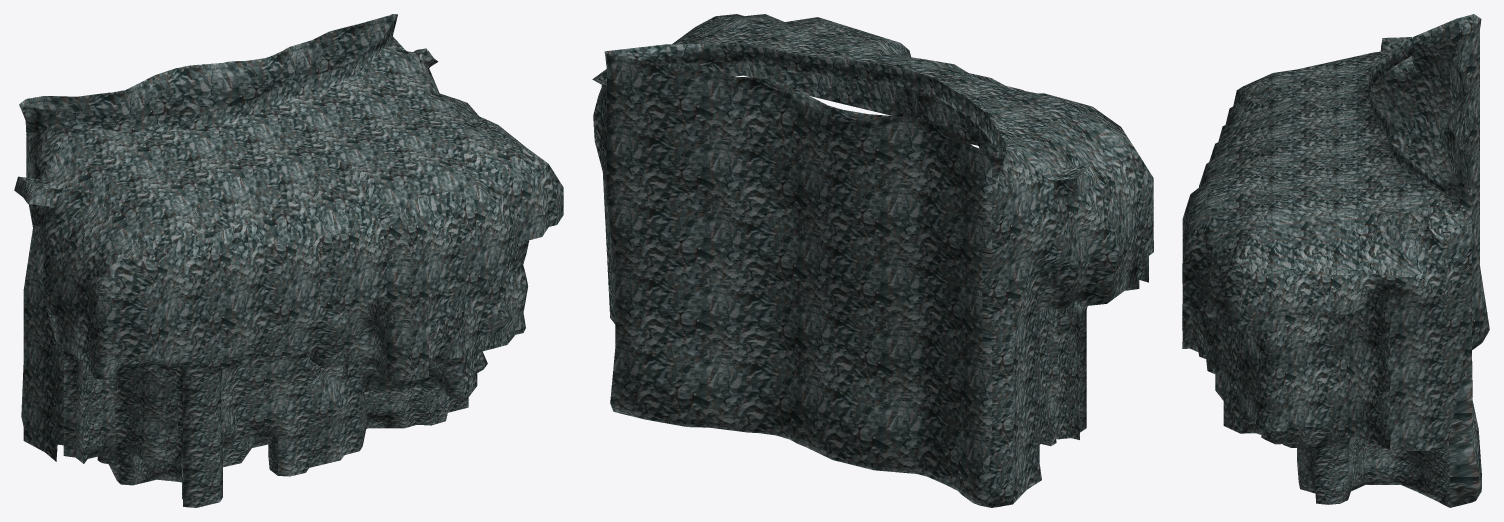
File: CH09_SMAUG_PLAYSURFACE_CAVE13.fbx
3 renders of one model, left to right at view 1: azimuth 30°, elevation 25°; view 2: azimuth 150°, elevation 25°; view 3: azimuth 270°, elevation 25°, orthographic. The views are drawn at different scales.
Parts seen in each view (by area): view 1: CH09_SMAUG_PLAYSURFACE_CAVE13; view 2: CH09_SMAUG_PLAYSURFACE_CAVE13; view 3: CH09_SMAUG_PLAYSURFACE_CAVE13.
Part boxes in pixels (x1,y1,x2,y2): CH09_SMAUG_PLAYSURFACE_CAVE13: [14, 14, 563, 507]; CH09_SMAUG_PLAYSURFACE_CAVE13: [592, 14, 1153, 507]; CH09_SMAUG_PLAYSURFACE_CAVE13: [1182, 14, 1489, 507].
Size of the model in its own units: 584685 by 403552 by 350513.
Materials: 1 (1 with a texture image).
